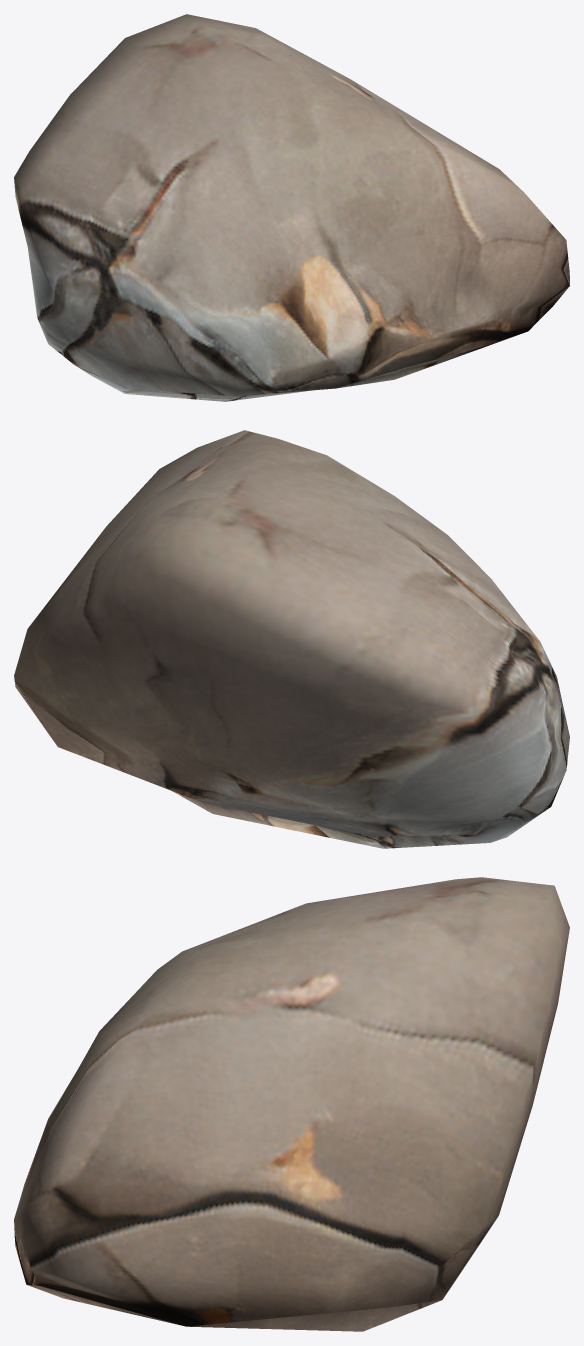
Rendered from pond_stone01.glb.
3 views of the same model, one above another, from view 1: azimuth 30°, elevation 25°; view 2: azimuth 150°, elevation 25°; view 3: azimuth 270°, elevation 25° (orthographic). The views are drawn at different scales.
Visible parts, largest first — view 1: stone_01_Log_rocks_0; view 2: stone_01_Log_rocks_0; view 3: stone_01_Log_rocks_0.
Boxes of the visible parts, box(x1,y1,x2,y2) form: stone_01_Log_rocks_0: box(14, 14, 569, 401); stone_01_Log_rocks_0: box(14, 430, 569, 848); stone_01_Log_rocks_0: box(14, 877, 569, 1331).
Size of the model in its own units: 0.1462 by 0.0904 by 0.1231.
Materials: 1 (1 with a texture image).
